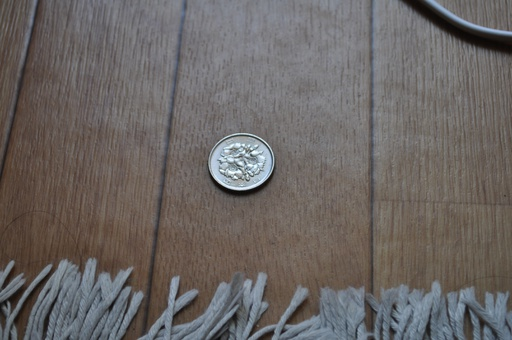100yen: (209, 134, 274, 192)
